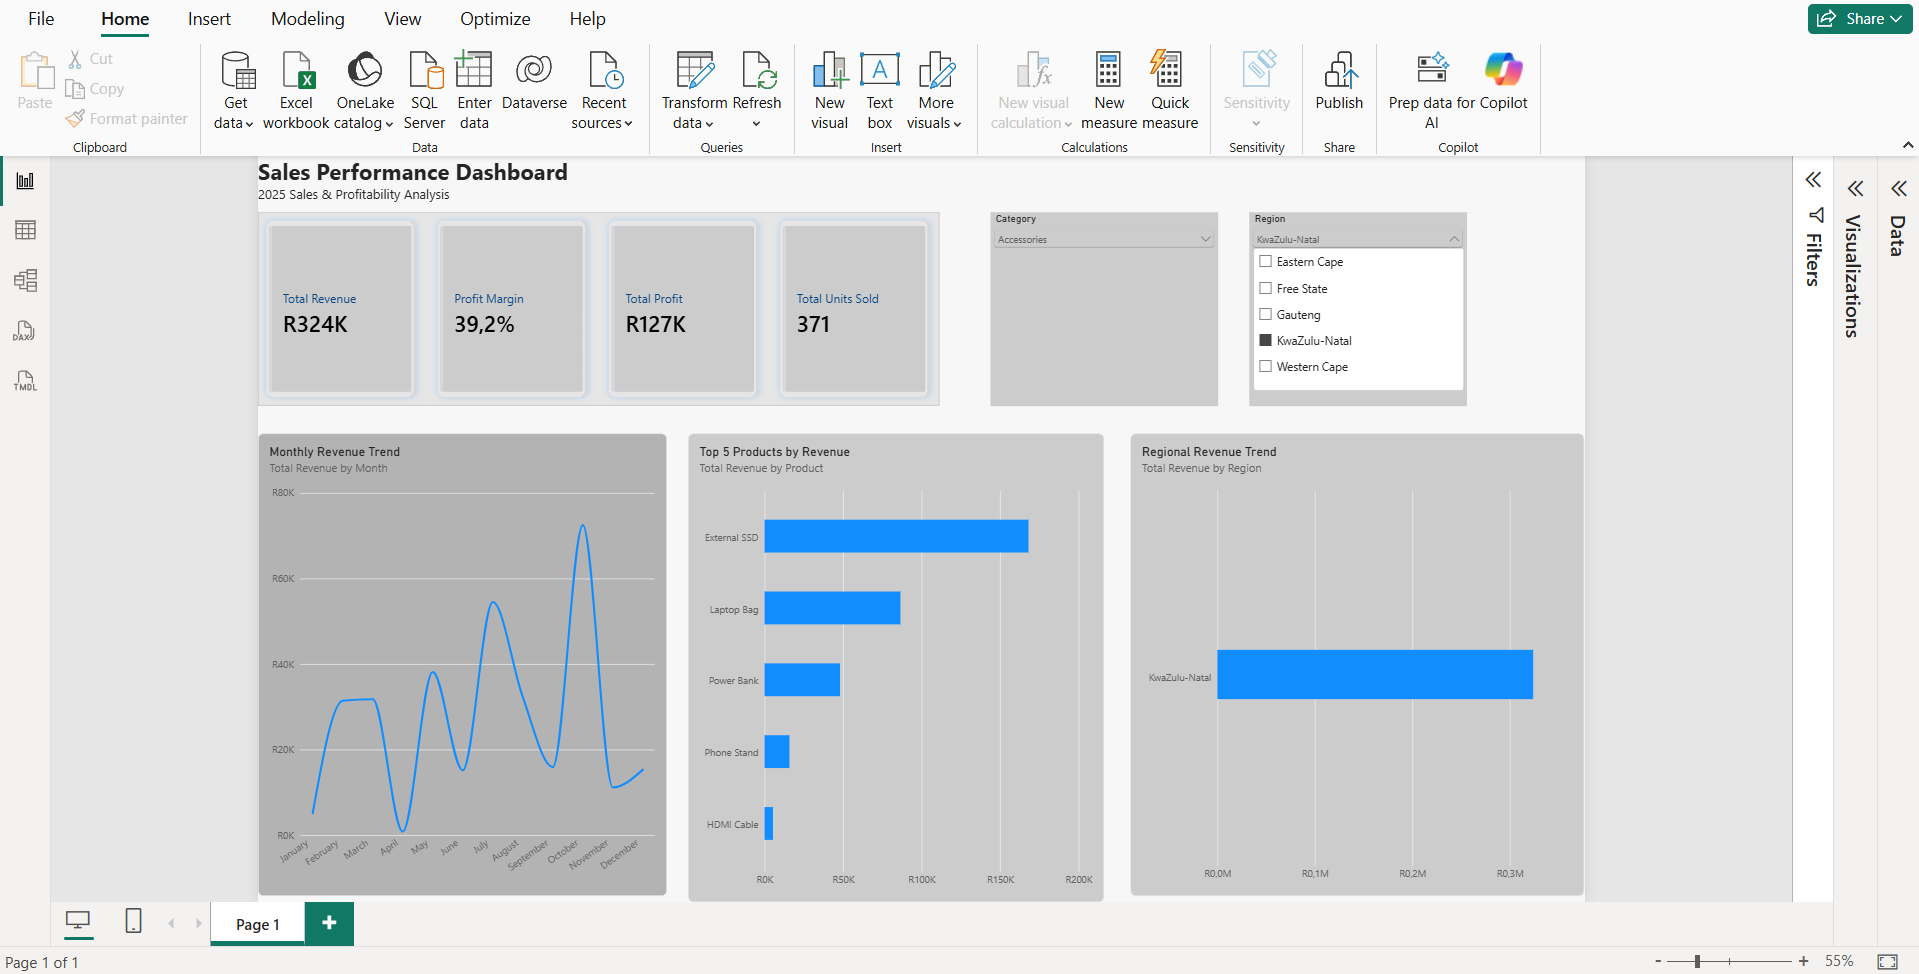

The page's visual inventory and layout, read from the dashboard file:
{"tool":"powerbi","page":{"name":"Page 1","canvas":[1920,1080],"ordinal":0},"visuals":[{"type":"cardVisual","fields":{"Data":["Sales_Data.Total Revenue","Sales_Data.Profit Margin","Sales_Data.Total Profit","Sales_Data.Total Units Sold"]},"box":[0,81.2,988.1,280.5],"z":0},{"type":"lineChart","title":"Monthly Revenue Trend","fields":{"Category":["Sales_Data.Order Date.Variation.Date Hierarchy.Year","Sales_Data.Order Date.Variation.Date Hierarchy.Quarter","Sales_Data.Order Date.Variation.Date Hierarchy.Month","Sales_Data.Order Date.Variation.Date Hierarchy.Day"],"Y":["Sales_Data.Total Revenue"]},"box":[0,401.7,591.8,669.6],"z":1},{"type":"clusteredBarChart","title":"Regional Revenue Trend","fields":{"Category":["Sales_Data.Region"],"Y":["Sales_Data.Total Revenue"]},"box":[1263.1,401.7,656.9,669.6],"z":2},{"type":"clusteredBarChart","title":"Top 5 Products by Revenue","fields":{"Category":["Sales_Data.Product"],"Y":["Sales_Data.Total Revenue"]},"box":[622.5,401.7,602.6,678.6],"z":3},{"type":"slicer","fields":{"Values":["Sales_Data.Region"]},"box":[1435.1,81.4,314.9,280.5],"z":4},{"type":"slicer","fields":{"Values":["Sales_Data.Category"]},"box":[1060.5,81.4,329.4,280.5],"z":5},{"type":"textbox","box":[0,0,470.5,161.1],"z":6}]}

Visuals, with their boxes on the page's 1920x1080 design canvas (x1, y1, x2, y2). These are canvas units, not pixel positions in the 1919x974 screenshot, which may show the page scaled, cropped or inside an application window:
cardVisual - Sales_Data.Total Revenue x Sales_Data.Profit Margin: (left=0, top=81, right=988, bottom=362)
"Monthly Revenue Trend" lineChart: (left=0, top=402, right=592, bottom=1071)
"Regional Revenue Trend" clusteredBarChart: (left=1263, top=402, right=1920, bottom=1071)
"Top 5 Products by Revenue" clusteredBarChart: (left=622, top=402, right=1225, bottom=1080)
slicer - Sales_Data.Region: (left=1435, top=81, right=1750, bottom=362)
slicer - Sales_Data.Category: (left=1060, top=81, right=1390, bottom=362)
textbox: (left=0, top=0, right=470, bottom=161)
